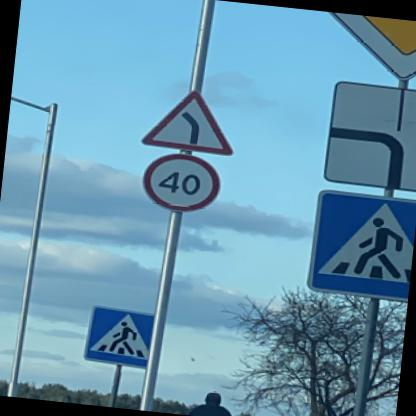crosswalk: (302, 187, 416, 301), (81, 302, 154, 364)
speedlimit: (137, 148, 222, 214)
